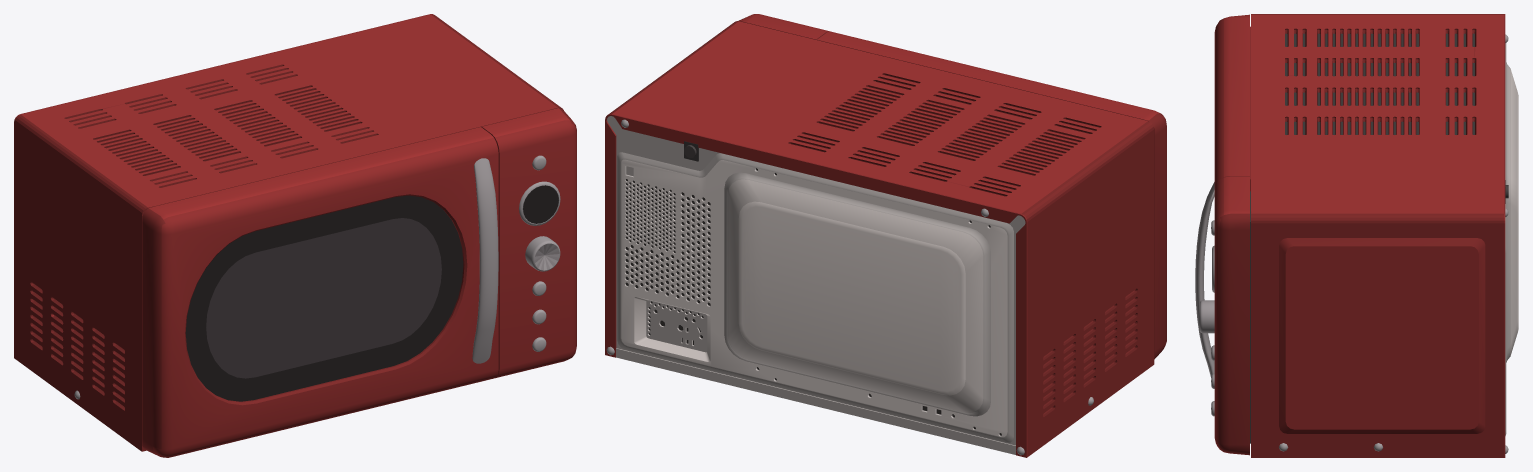
File: microwave.glb
The picture shows the model from 3 angles, left to right: view 1: azimuth 30°, elevation 25°; view 2: azimuth 150°, elevation 25°; view 3: azimuth 270°, elevation 25°; orthographic projection.
Visible parts, largest first — view 1: Cube.001, Cube.004, Cube.002, Circle.004, Circle.006, Circle.005; view 2: Cube.004, Plane, object 22, Cube.001, Cube.005, object 20, Cube.002; view 3: Cube.004, Cube.003, Cube.002, Cube.001, Plane, Circle.004, object 22, Circle.005.
Boxes of the visible parts, x1,y1,x2,y2 form: Cube.001: (142,127,498,457); Cube.004: (14,14,563,451); Cube.002: (481,108,576,378); Circle.004: (472,158,498,363); Circle.006: (519,181,560,225); Circle.005: (525,236,560,271); Cube.004: (605,21,1154,457); Plane: (724,172,990,416); object 22: (617,152,1013,442); Cube.001: (817,31,1166,359); Cube.005: (616,348,1015,454); object 20: (607,116,1025,445); Cube.002: (738,14,829,39); Cube.004: (1251,14,1505,457); Cube.003: (1279,238,1485,433); Cube.002: (1214,176,1250,455); Cube.001: (1214,14,1250,191); Plane: (1506,62,1518,362); Circle.004: (1195,182,1214,377); object 22: (1505,43,1506,435); Circle.005: (1200,300,1214,333).
Bounding box in the file's own units: 3.49 × 1.96 × 2.29.
